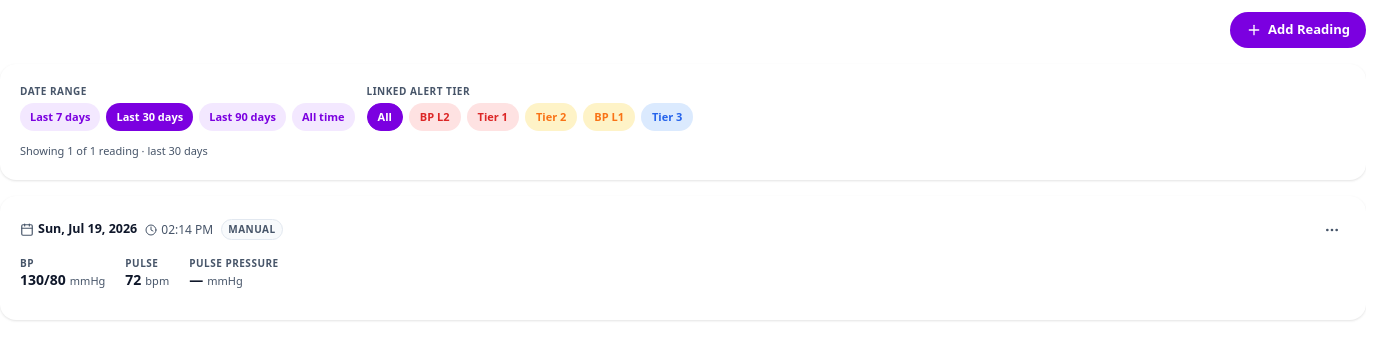
it: ReadingsTab — role-gated CRUD affordances › kebab clicks do not bubble into the card view modal
Click the button with test id "admin-reading-kebab-a" at (1332, 230), box [1318,216,1346,244]
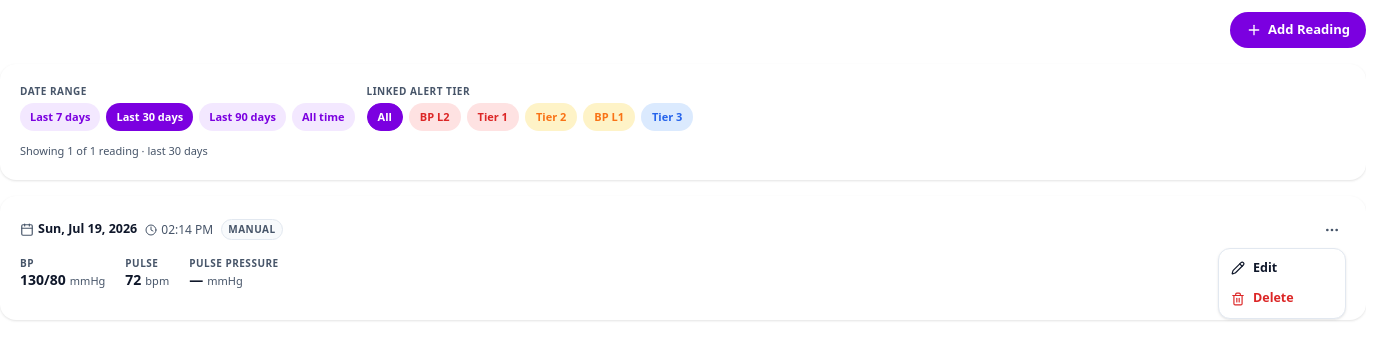
Expected: the menu item with test id "admin-reading-edit-a" is shown, [1219,252,1345,283]
